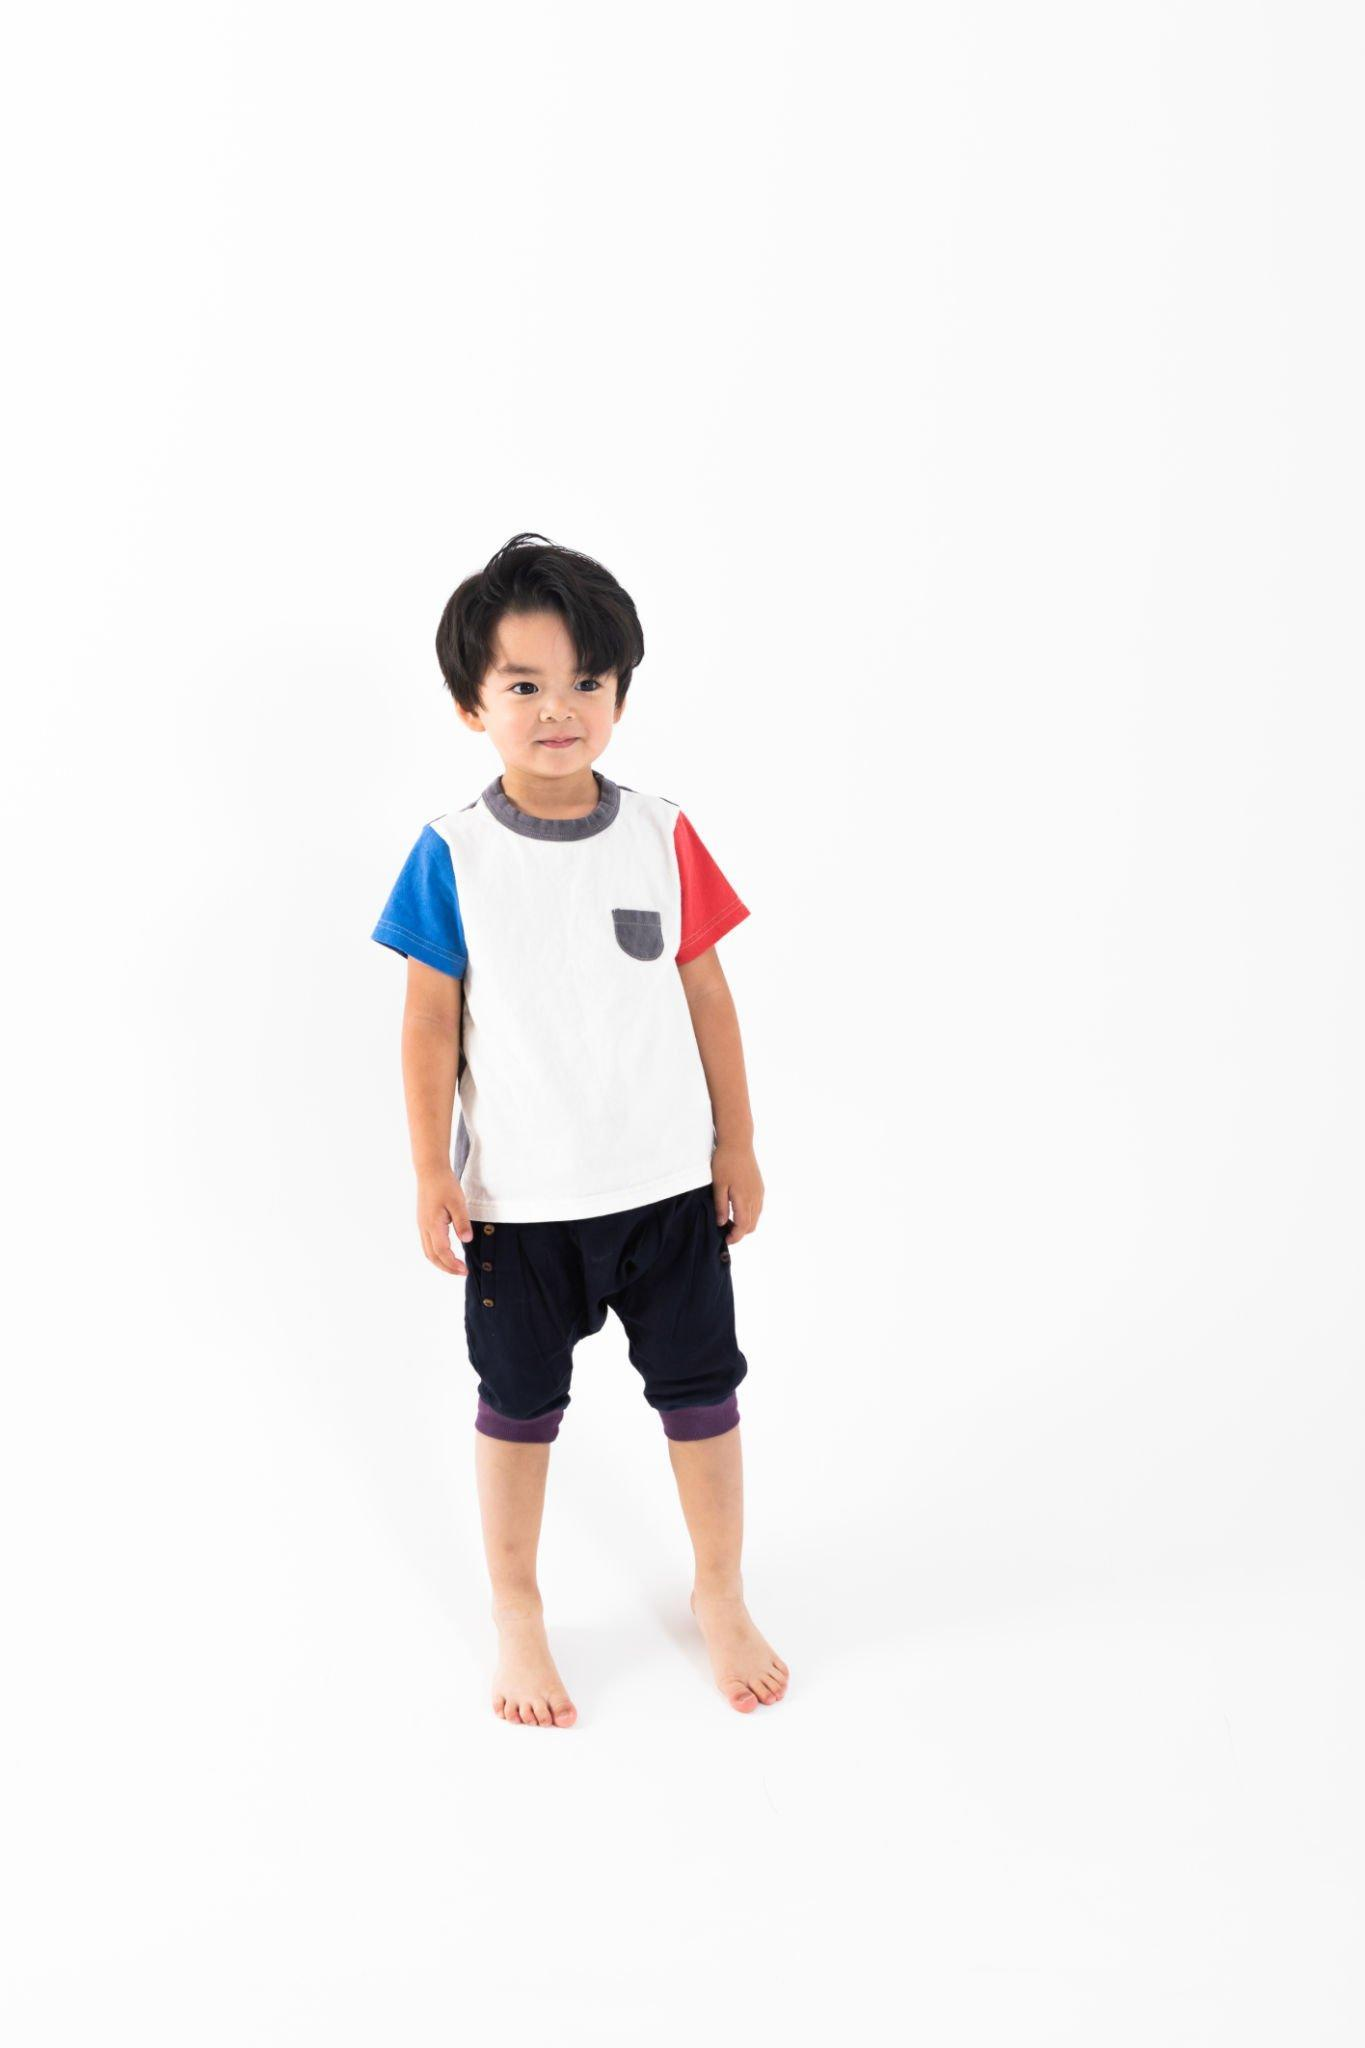Healthy: (457, 582, 643, 792)
